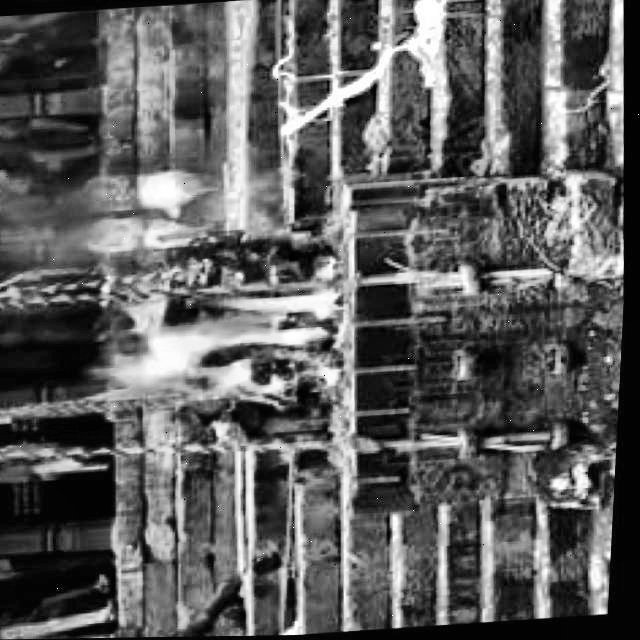Fire: (77, 269, 340, 414)
